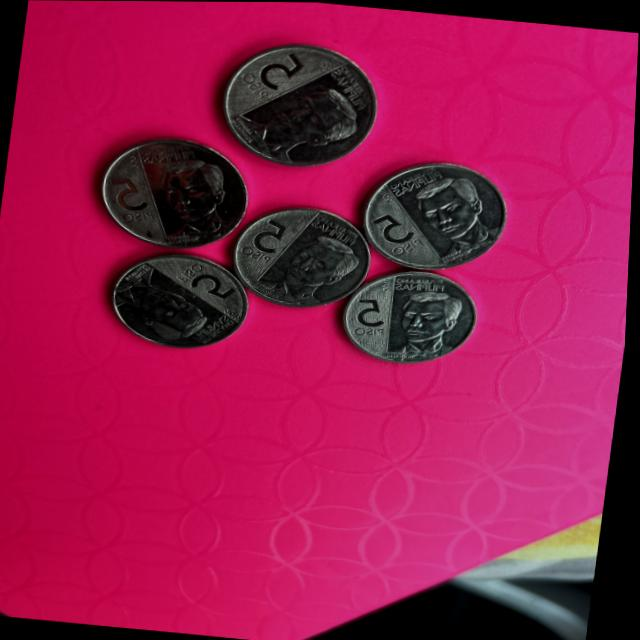5_New_Front: (234, 45, 311, 105), (236, 216, 297, 265), (371, 212, 429, 259), (108, 173, 154, 228), (180, 259, 240, 298), (350, 288, 390, 341)
